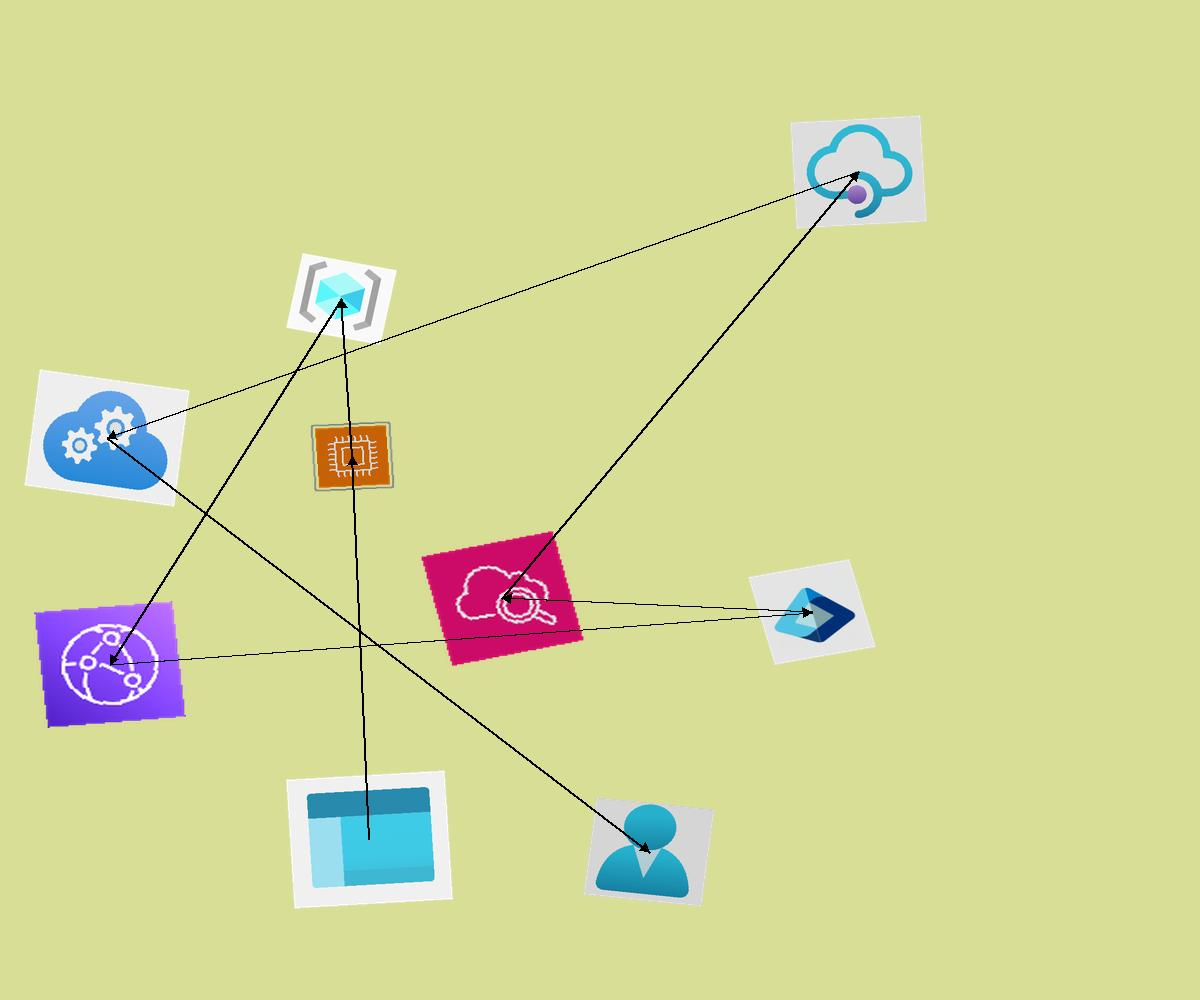AWS-Category_Compute: (310, 421, 395, 492)
AWS-CloudFront: (34, 601, 186, 728)
AWS-CloudWatch: (420, 530, 585, 667)
Azure_api_gateway: (790, 115, 927, 229)
Azure_cloud_services: (24, 369, 190, 507)
Azure_management-portal: (286, 770, 453, 909)
Azure_microsoft_entra: (748, 559, 876, 665)
Azure_resource_group: (286, 253, 397, 345)
Azure_users: (583, 797, 715, 907)
